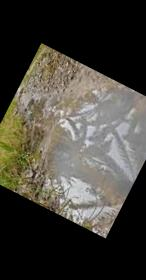Stagnant water: (0, 41, 146, 235)
